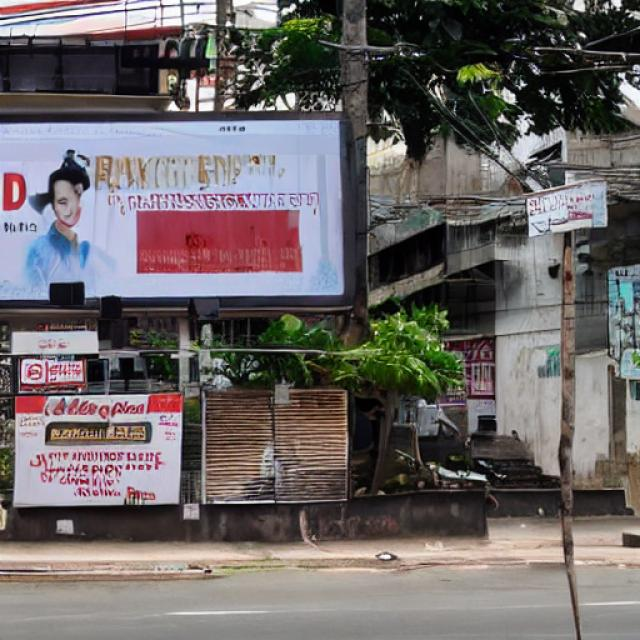Billboard: (0, 108, 352, 308), (10, 387, 188, 512)
